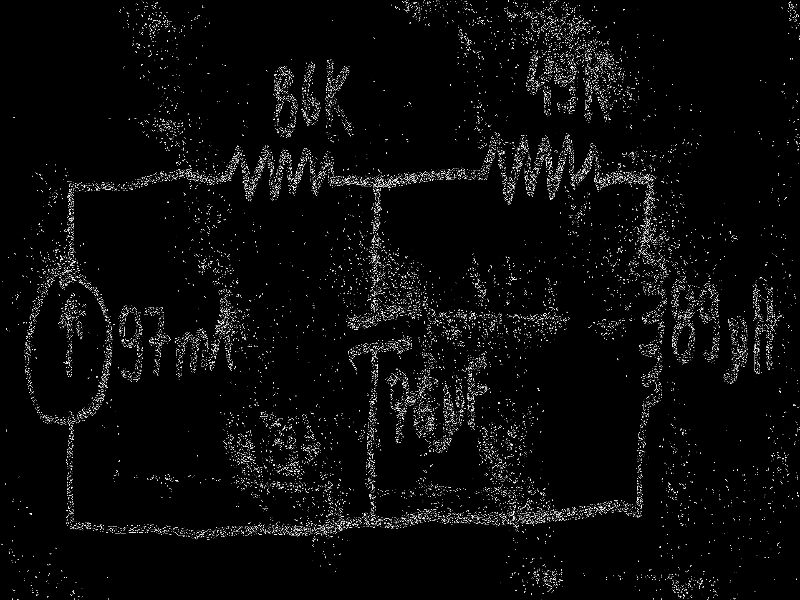4: (526, 49, 554, 118)
6: (413, 360, 436, 441), (299, 60, 322, 128)
7: (383, 364, 414, 447), (142, 301, 172, 380)
8: (669, 277, 697, 370), (271, 65, 300, 142)
9: (115, 300, 145, 386), (696, 282, 723, 367), (554, 47, 578, 123)
A: (208, 290, 236, 374)
F: (465, 350, 489, 428)
H: (749, 282, 775, 377)
k: (324, 57, 355, 147), (582, 51, 613, 126)
m: (173, 328, 209, 378)
u: (437, 376, 465, 456), (722, 315, 749, 386)
